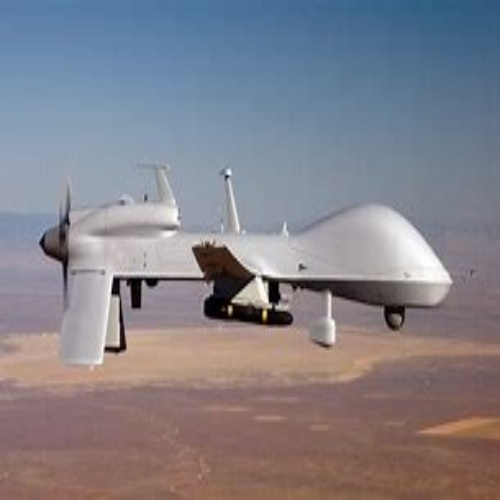uav: (32, 159, 456, 368)
